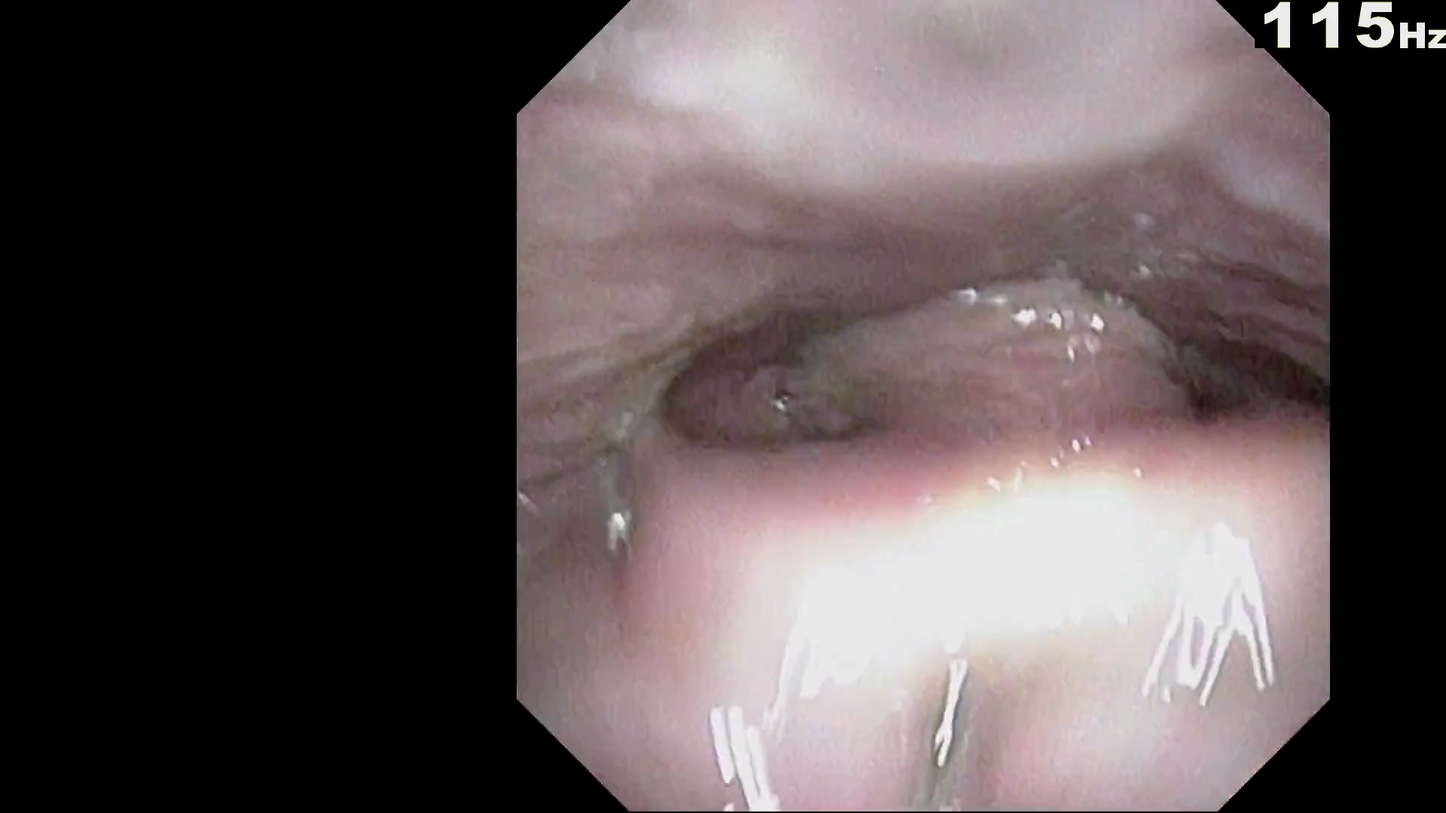epiglottis: (719, 538, 1268, 705)
